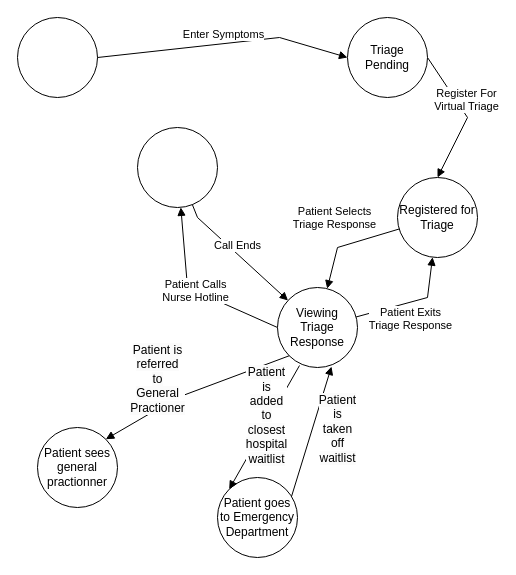
The diagram is 516 pixels wide and 575 high, and some of its shapes have lost their labels. The shapes that lost their labels are listed below. From the top down, each one's box as (x1, y1, x2, y2) in pixels, then its label:
(16, 16, 98, 98): Home Screen
(136, 126, 218, 208): On Call with Nurse
